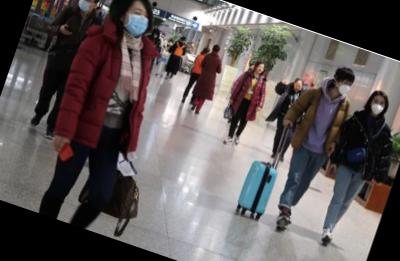with_mask: (121, 3, 154, 40), (368, 94, 388, 116), (337, 78, 354, 97)
without_mask: (292, 79, 304, 92), (255, 63, 266, 74)
